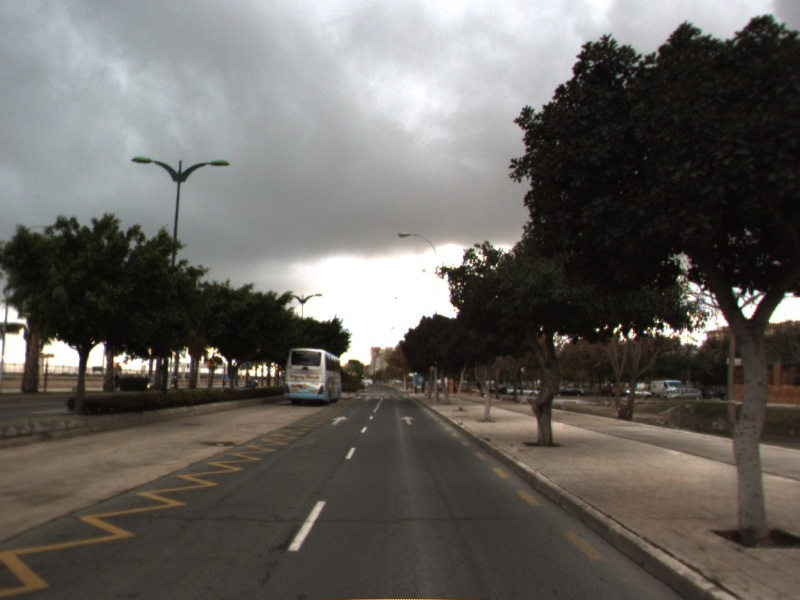STRAIGHT: (329, 414, 350, 427), (398, 414, 418, 427)
